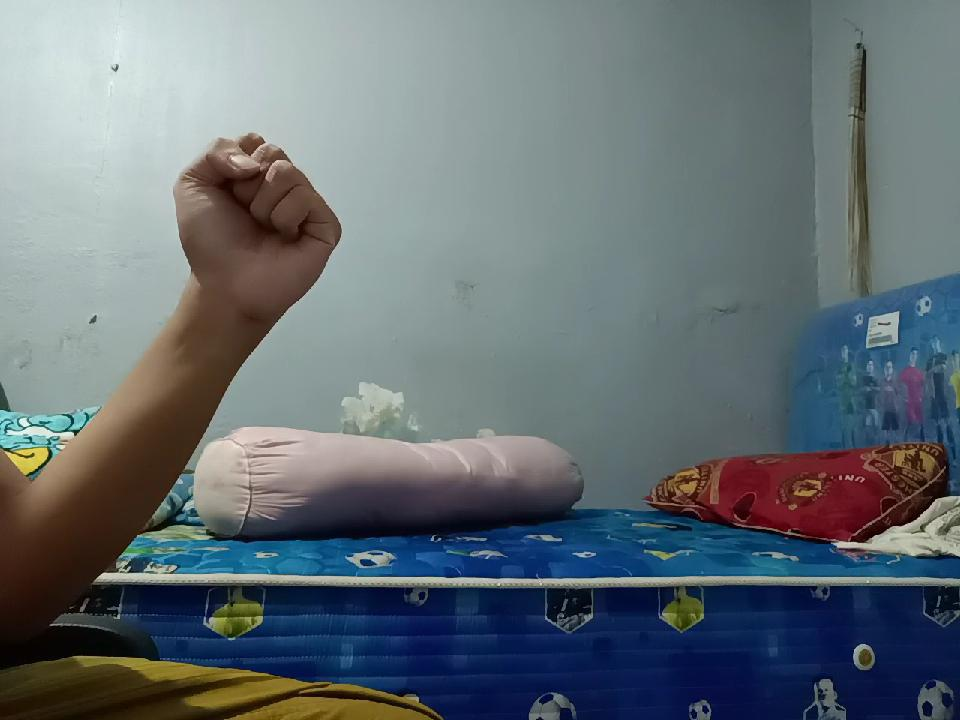rock: (170, 119, 338, 317)
